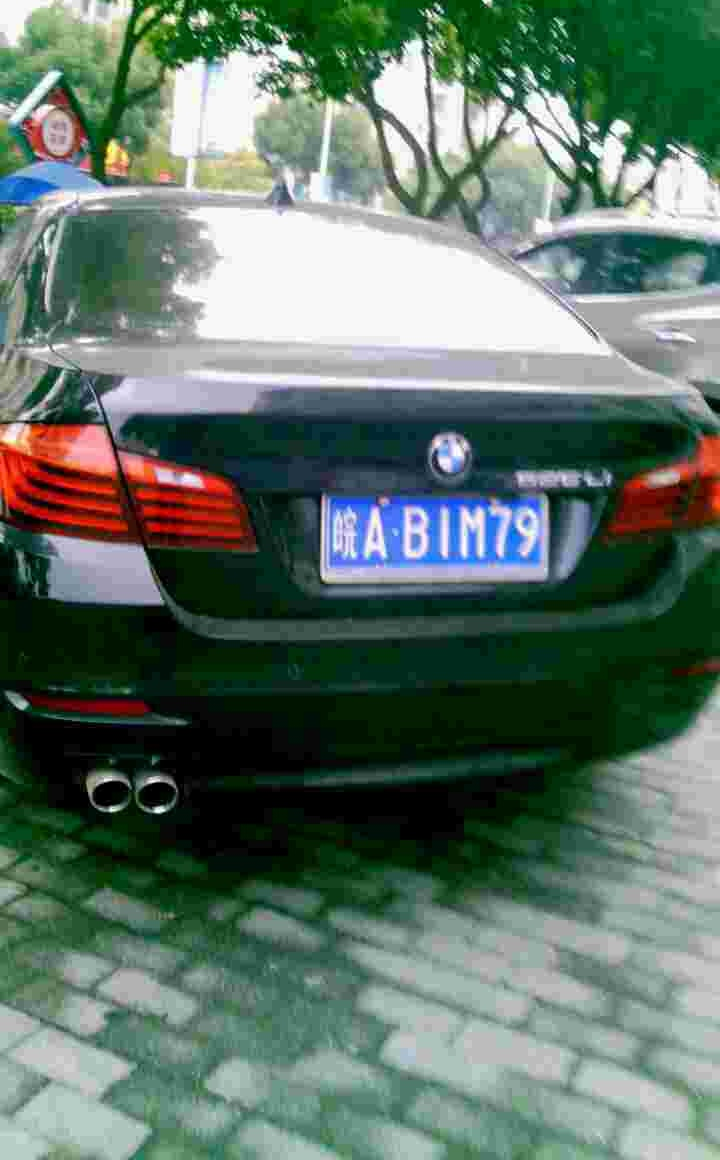license_plate: (332, 494, 544, 575)
